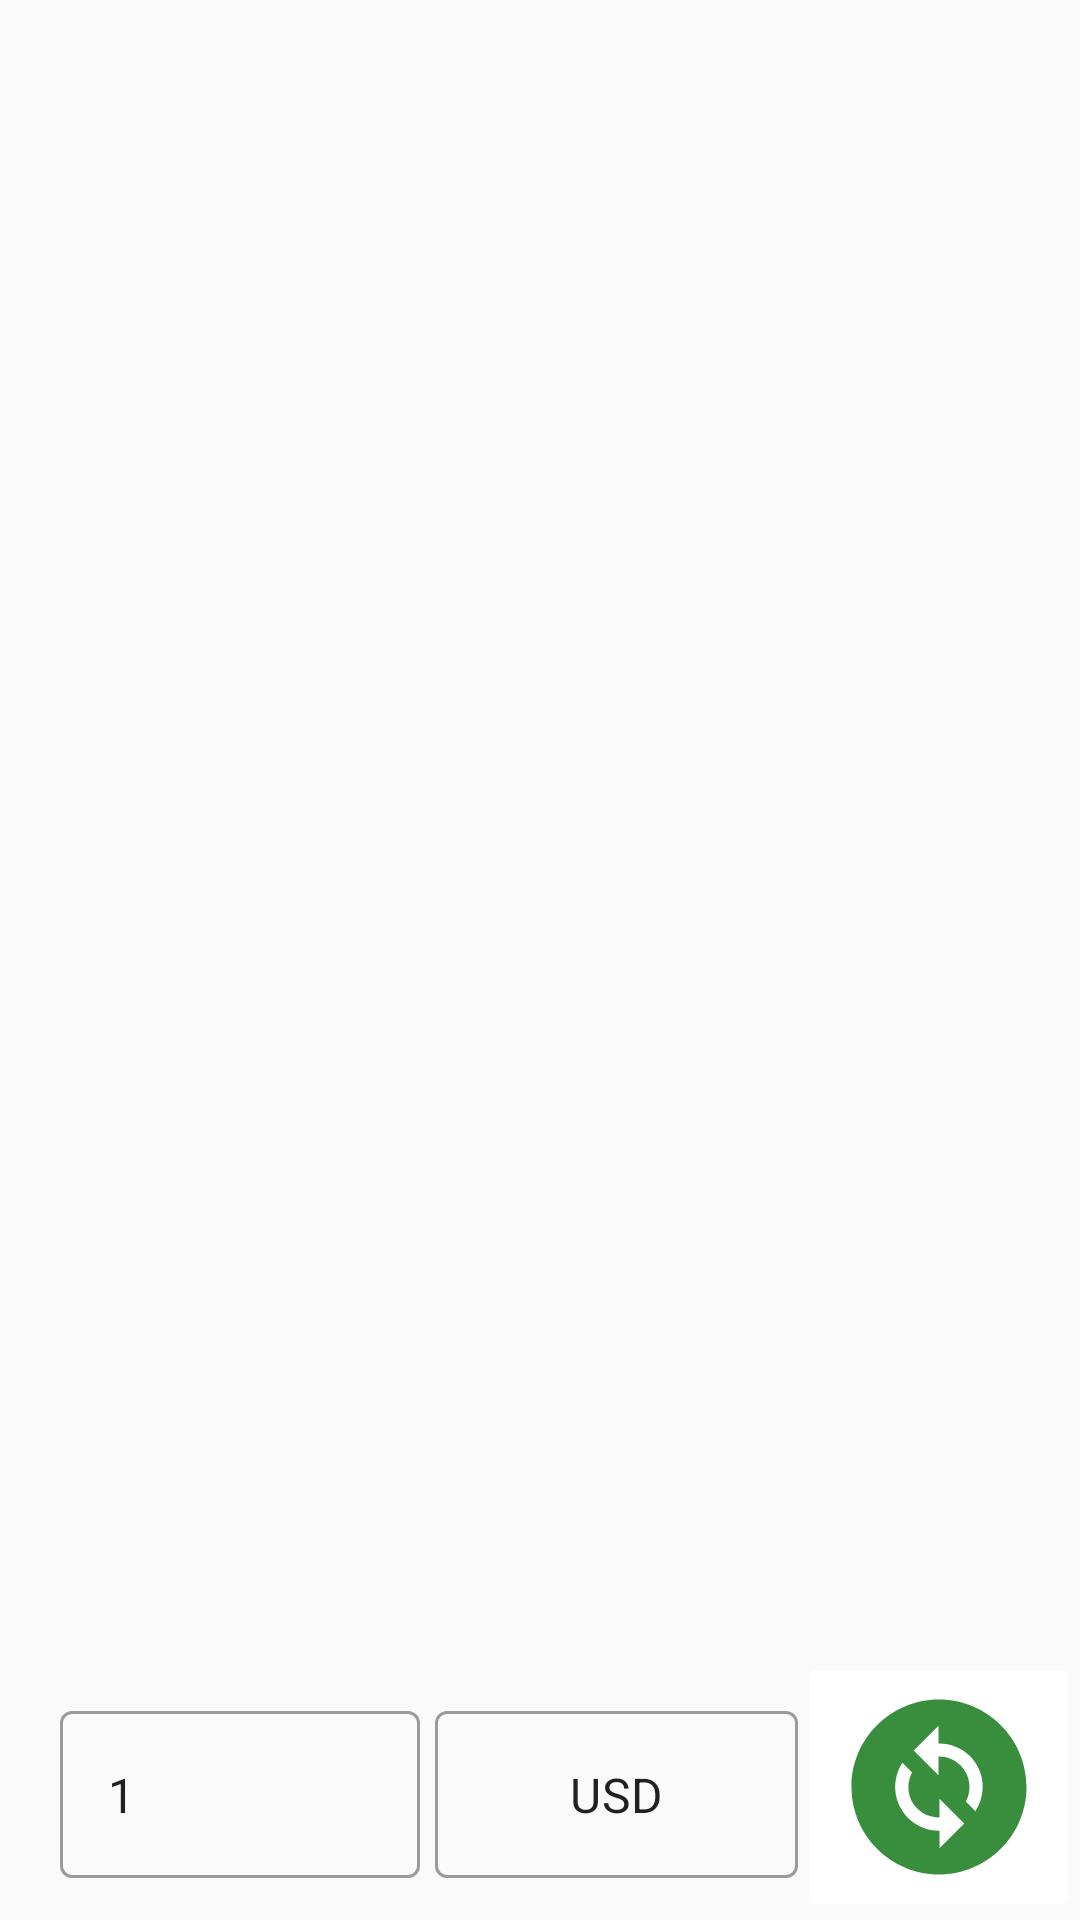

Named icons in this screenshot (1080 × 1920) and their bounding boxes, region(x1, y1, x2, y2):
change: region(851, 1699, 1027, 1875)
